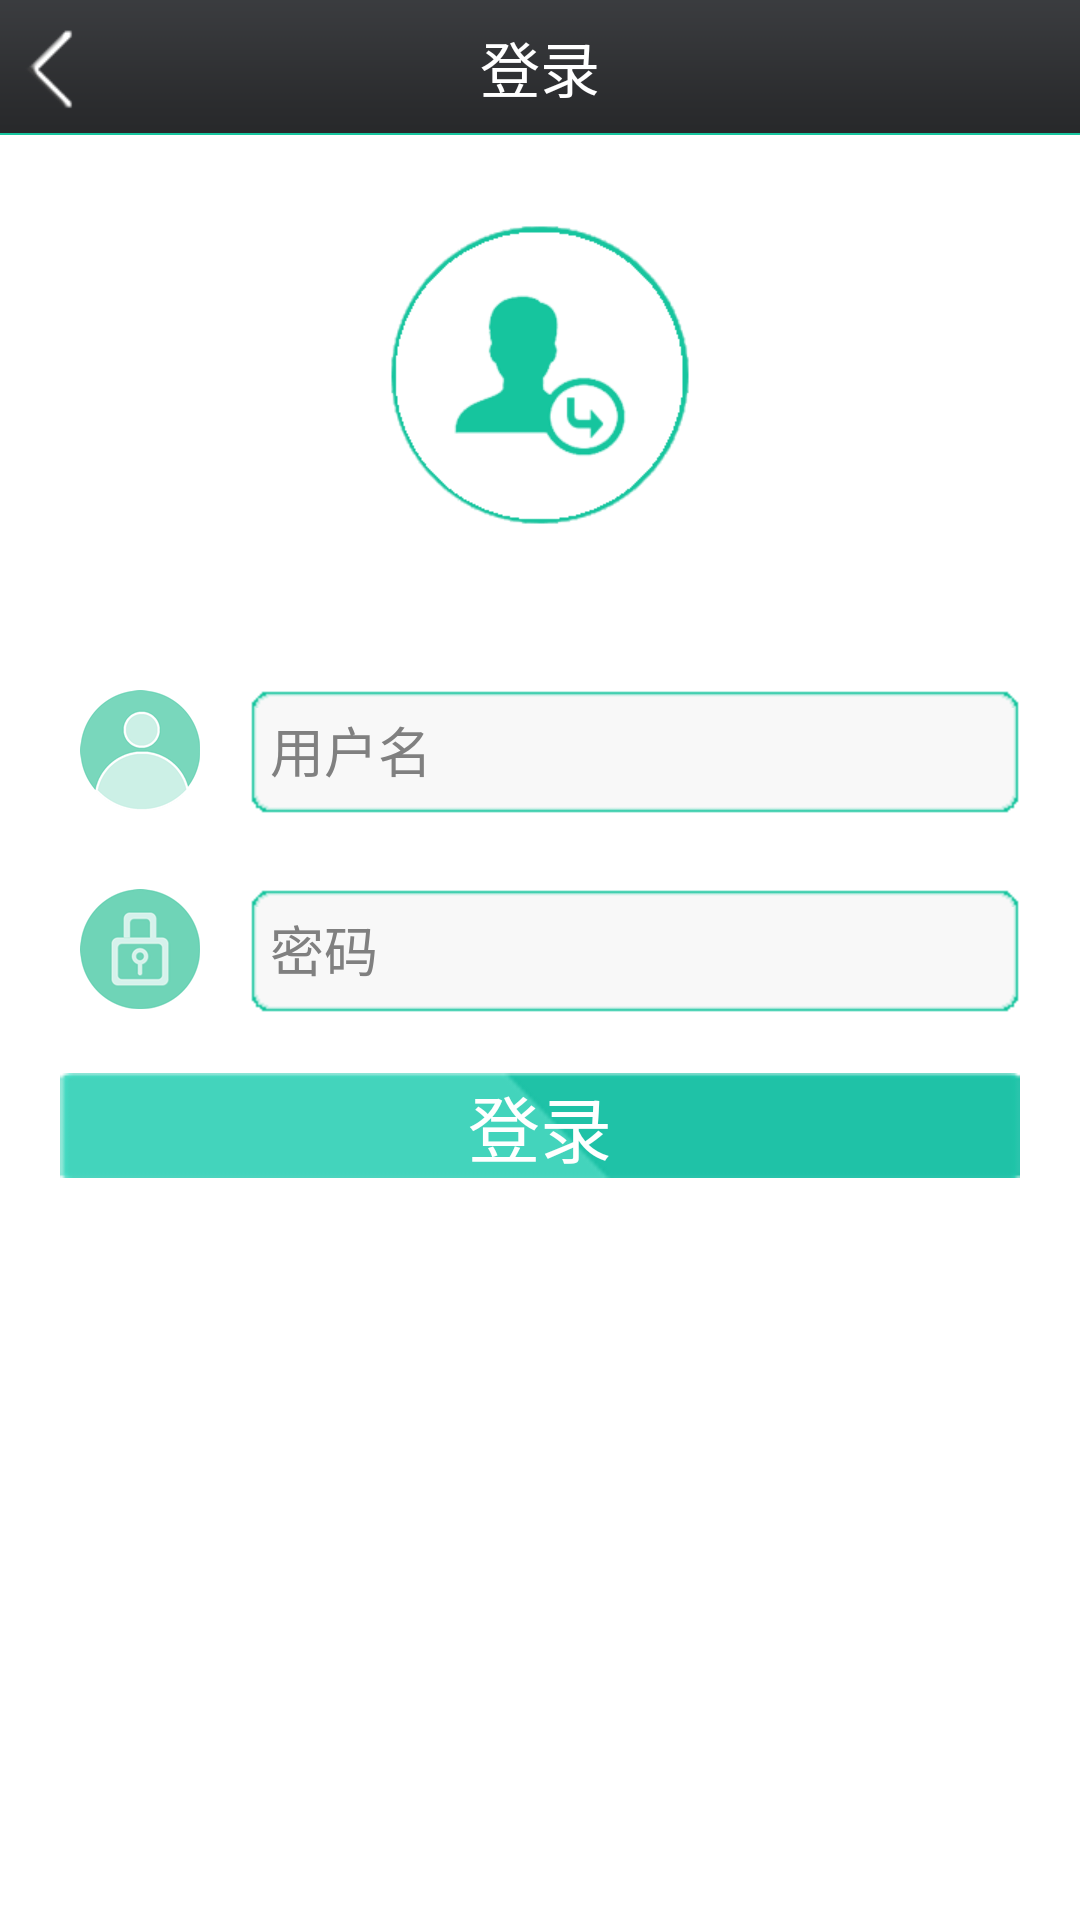

Named icons in this screenshot (1080×1920) and their centers, (x,y):
user: (140,749)
